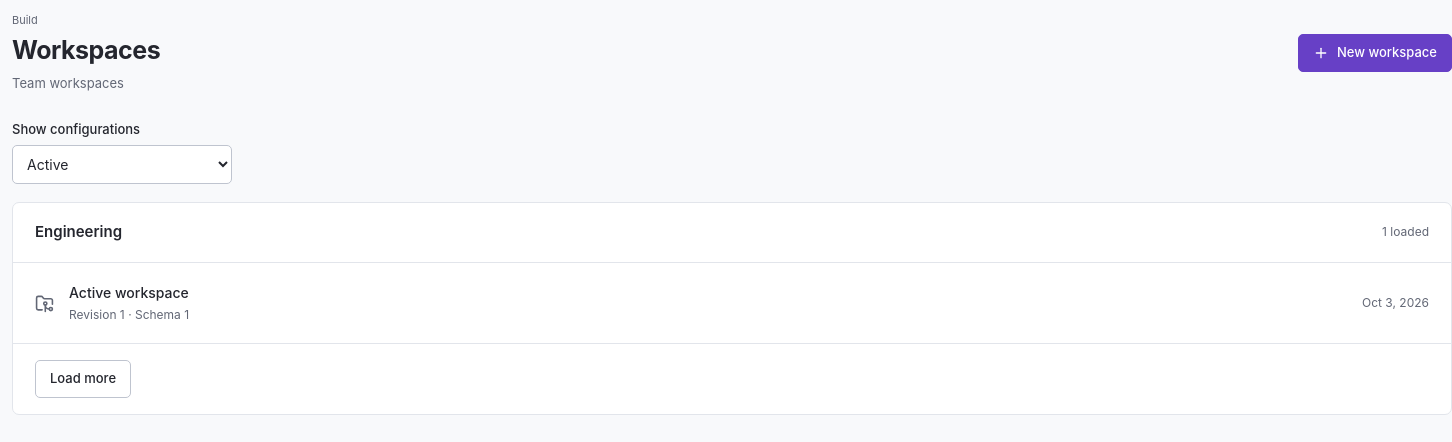
Test case: catalog status filtering › uses active by default, starts archived pagination fresh, and keeps the filter in the URL
Select "Archived" in the dropdown labelled "Show configurations" at (122, 164), box [12,145,232,184]
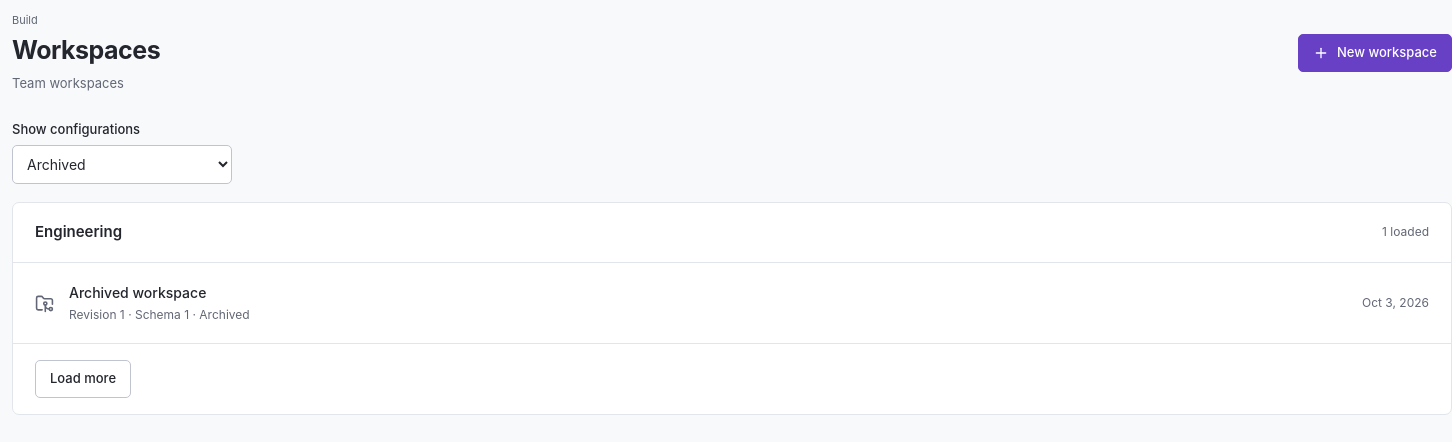
Expected: the text "Active workspace" is gone
Expected: the text "Archived workspace" is shown, [69,284,206,300]
Click the button "Load more" at (83, 378), box [35,360,131,398]
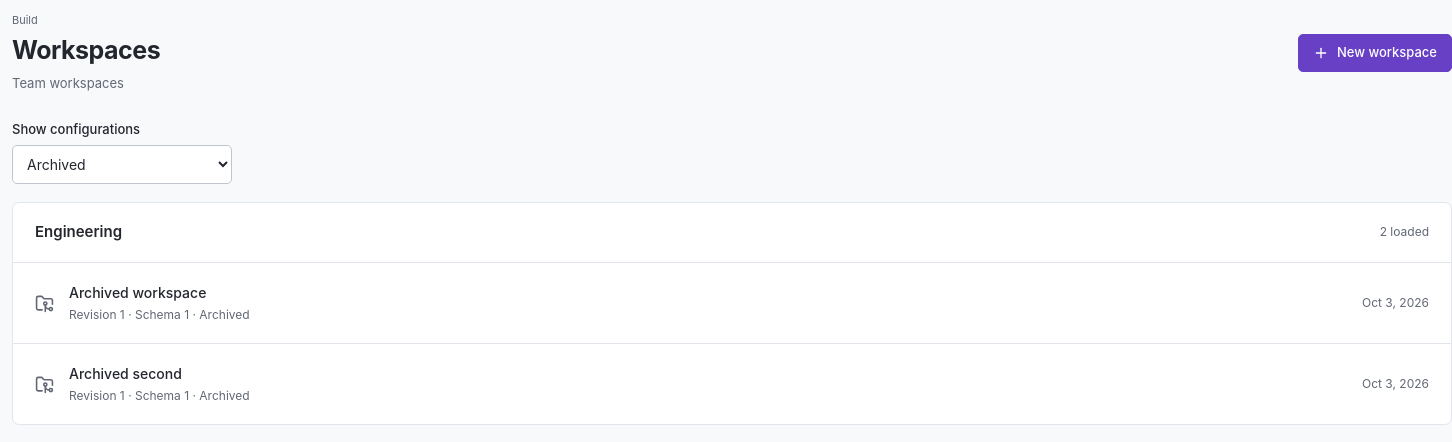
Expected: the text "Archived second" is shown, [69,364,182,382]
Select "Active" in the dropdown labelled "Show configurations" at (122, 164), box [12,145,232,184]
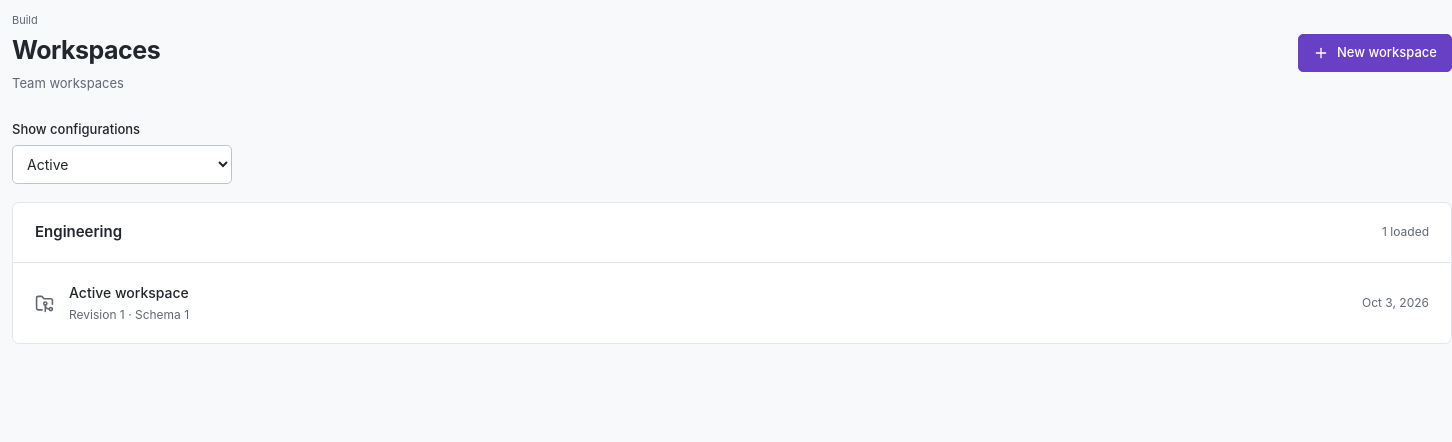
Expected: the text "Archived second" is gone
